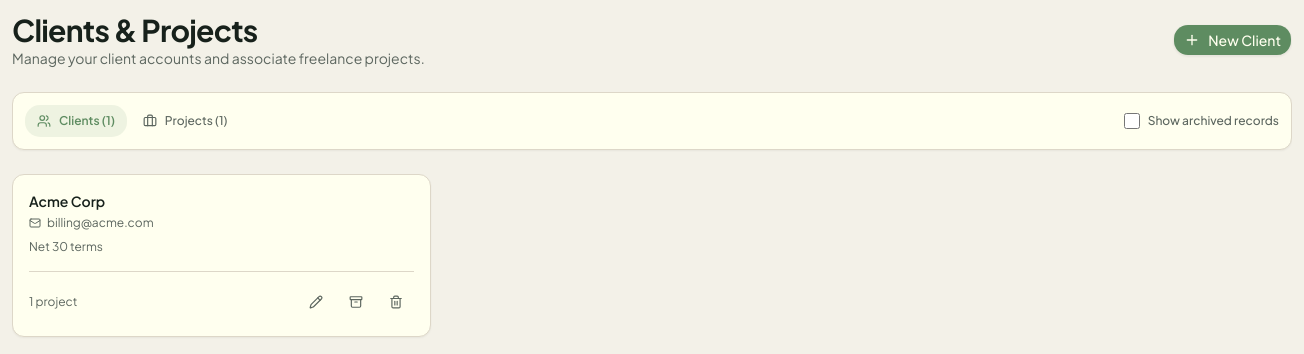
Test: ClientsProjectsManager Component › renders clients tab by default and switches to projects tab
The width and height of the screenshot is (1304, 354).
Expected: the heading "Acme Corp" is shown, [29,191,105,211]
Expected: the text "billing@acme.com" is shown, [47,215,154,231]
Note: Click Projects tab
Click the button "Projects (1)". click: (185, 121)
box: [131,105,240,137]
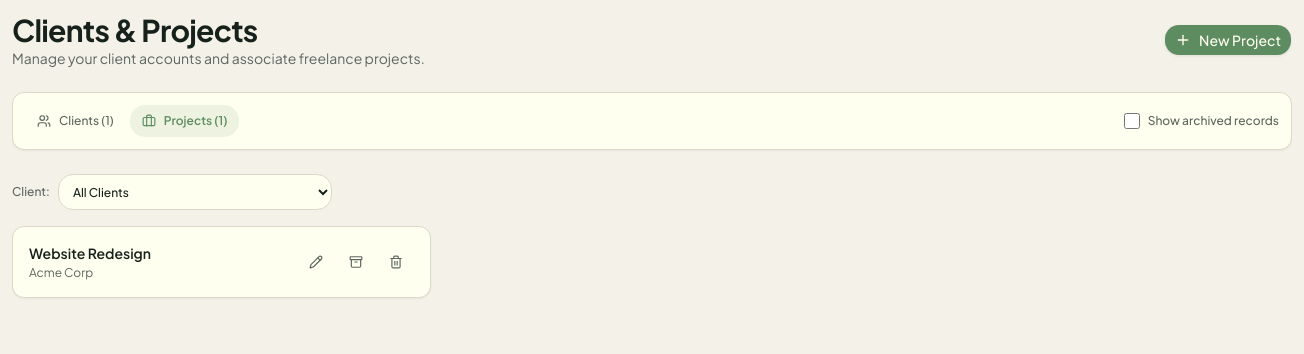
Expected: the heading "Website Redesign" is shown, [29,243,151,263]
